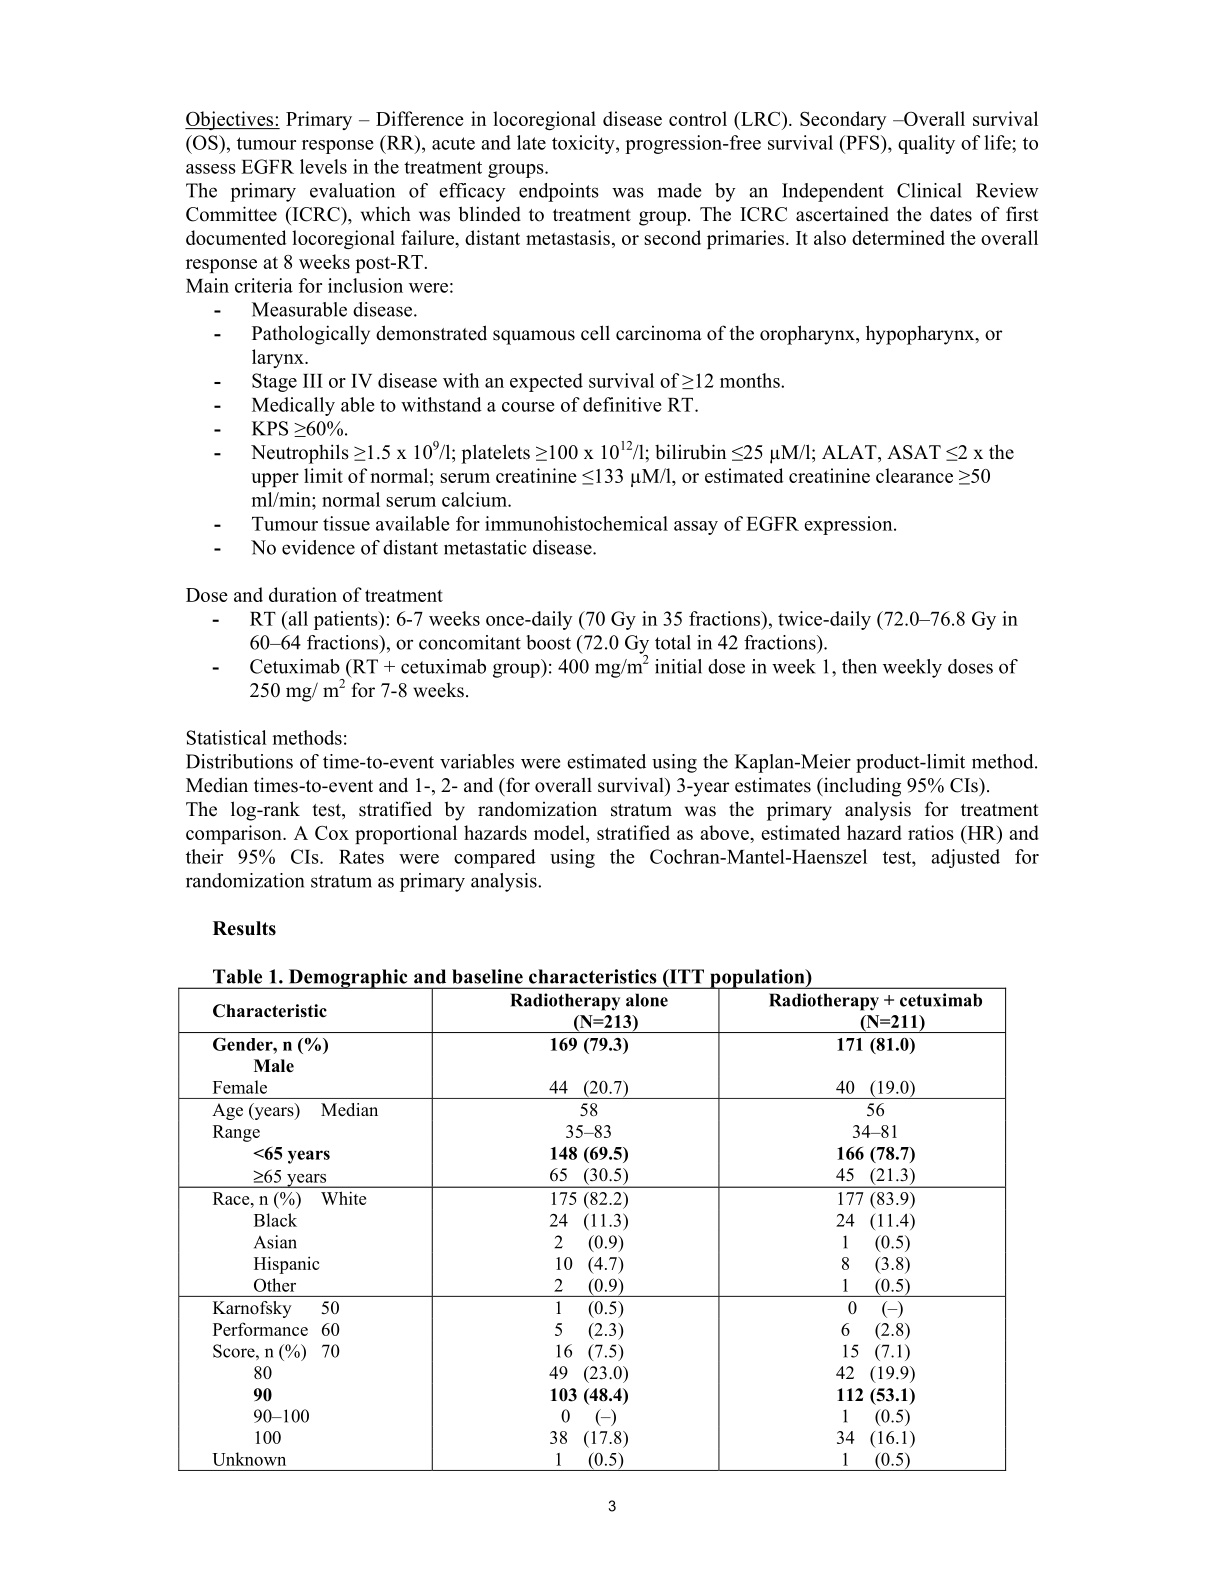partial_lined: (177, 987, 1007, 1472)
